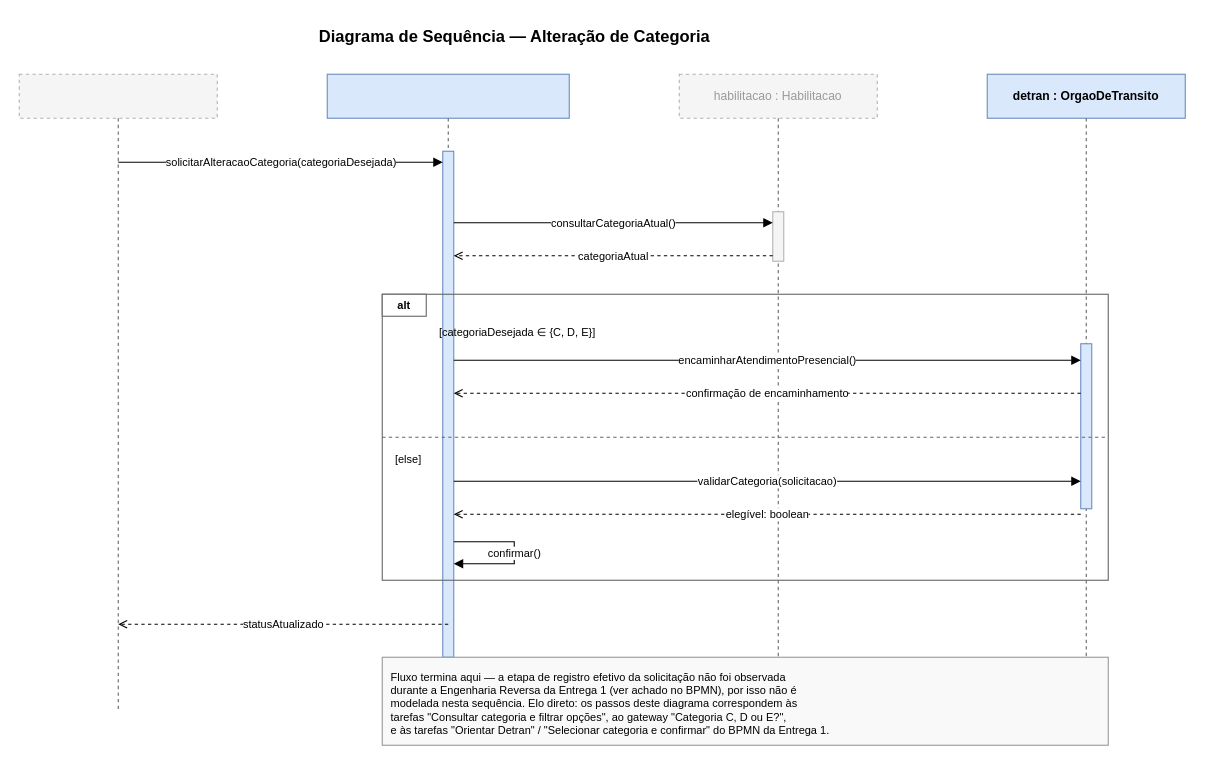
The diagram is 1205 pixels wide and 765 high, and some of its shapes have lost their labels. Each missing label, with the box of its shape:
condutor : Condutor: (18, 73, 217, 118)
solicitacao : SolicitacaoAlteracaoCategoria: (326, 73, 569, 118)
